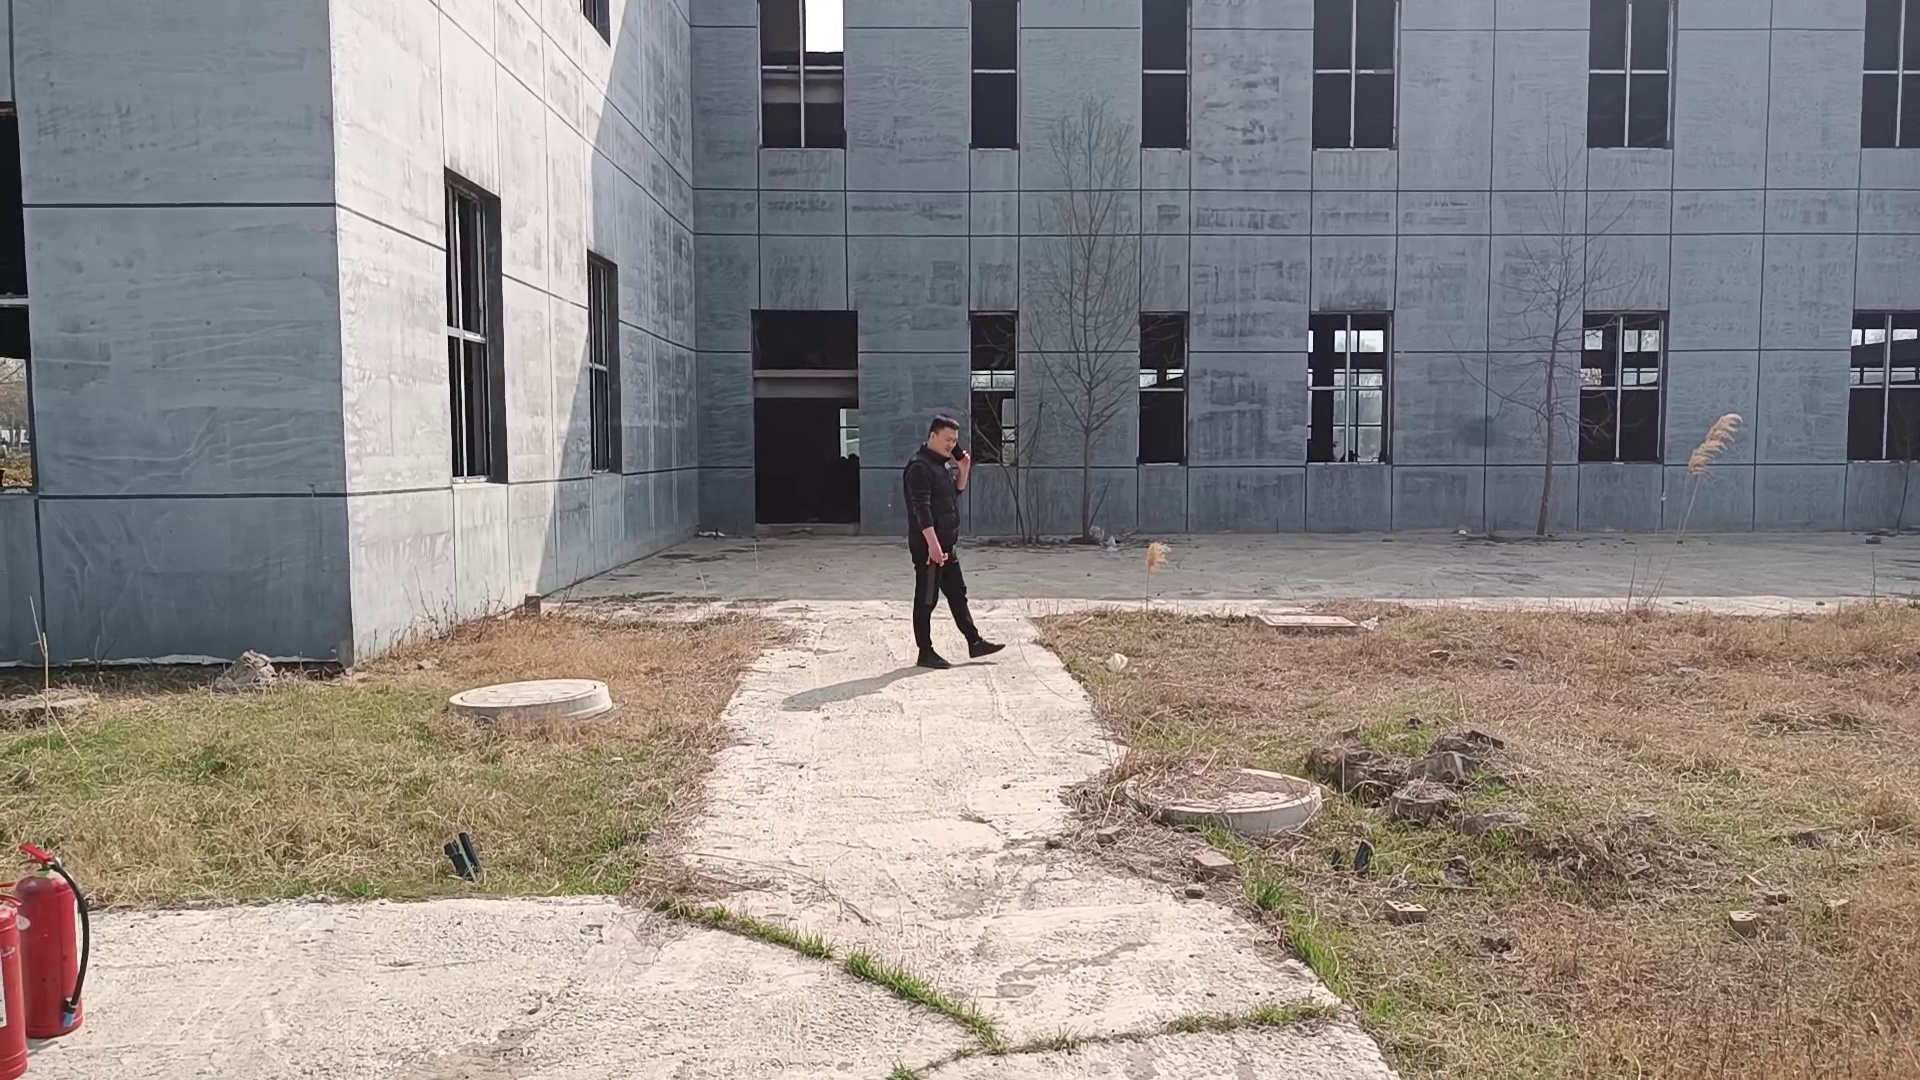phone: (923, 409, 972, 468)
